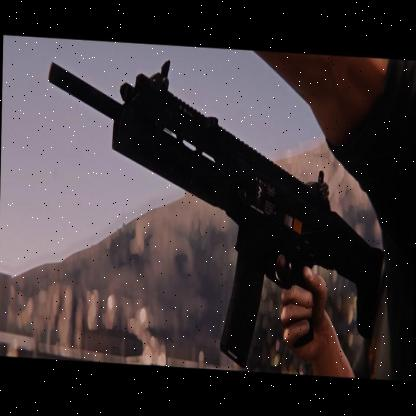rifle: (40, 47, 390, 373)
